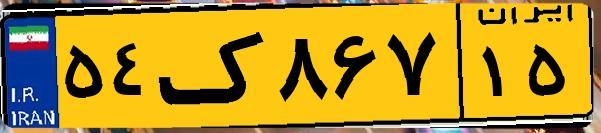1: (475, 38, 525, 113)
4: (110, 28, 158, 98)
5: (57, 26, 110, 100), (525, 38, 570, 115)
6: (330, 28, 385, 110)
7: (385, 28, 445, 110)
8: (270, 28, 330, 110)
ک: (158, 12, 270, 120)
